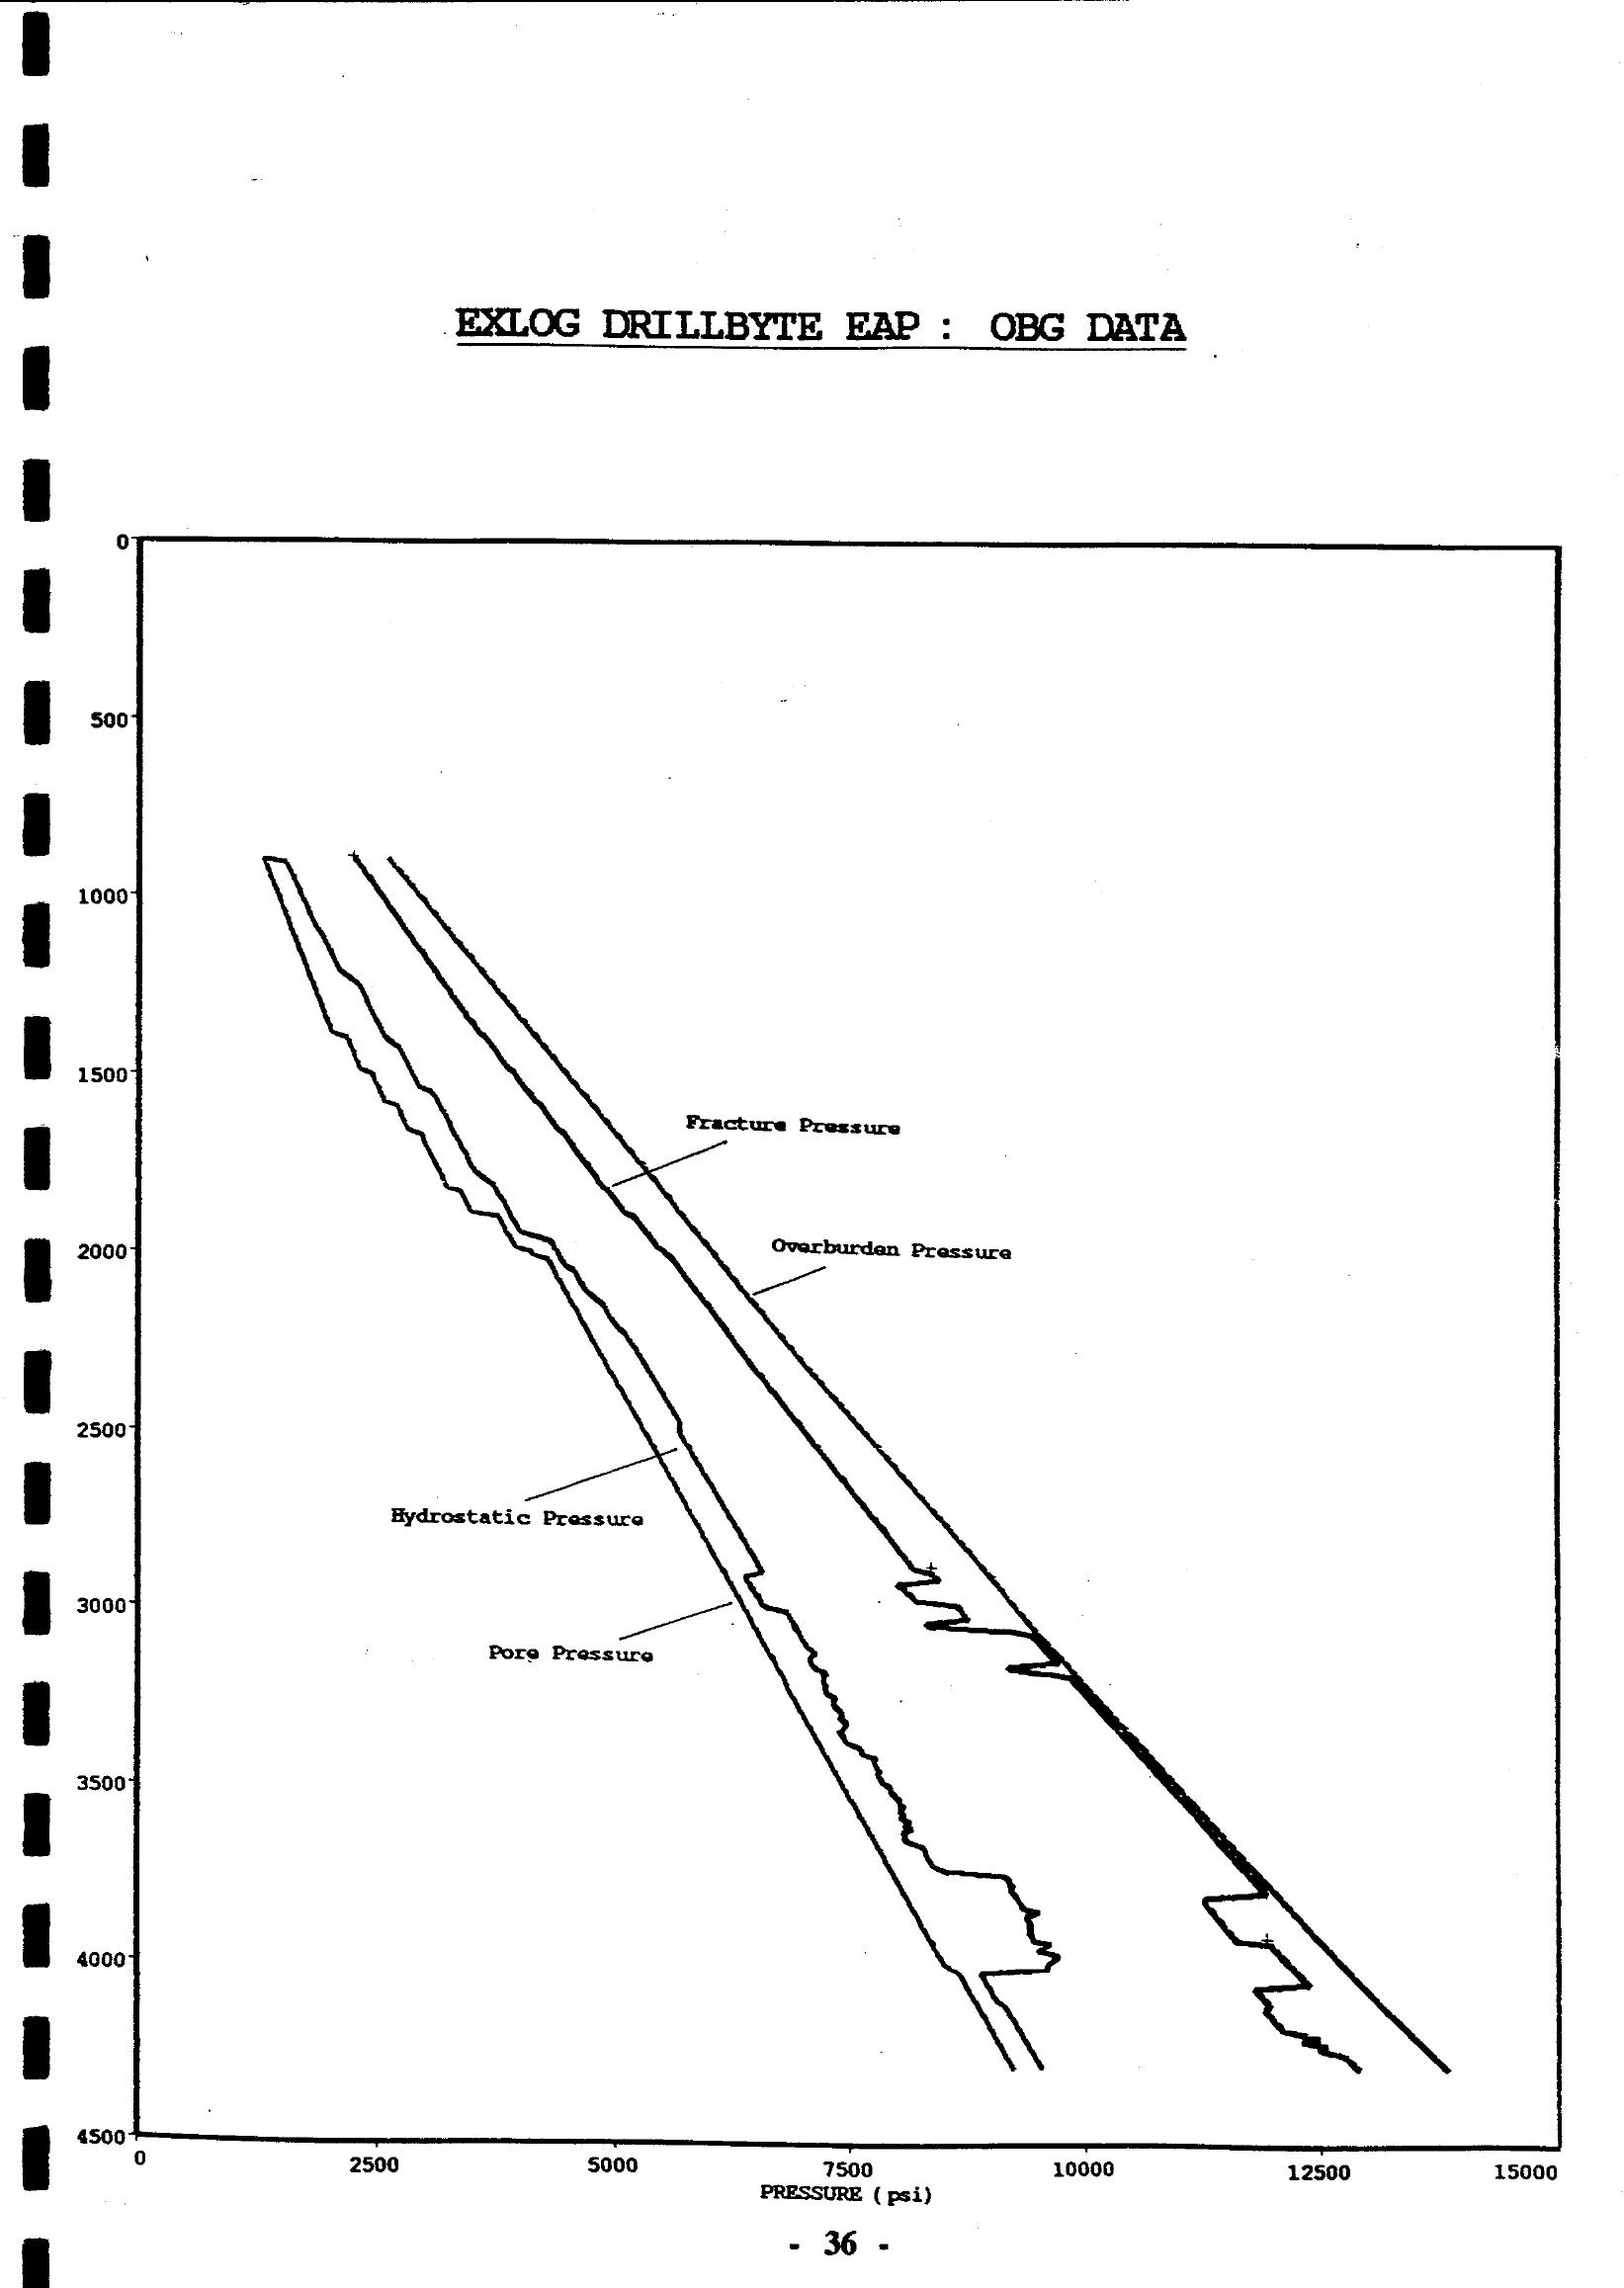graph: (70, 267, 1592, 2219)
